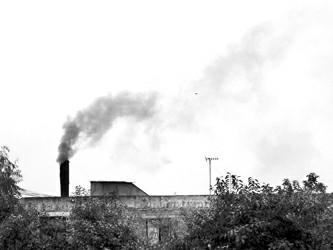dust: (42, 97, 109, 166)
